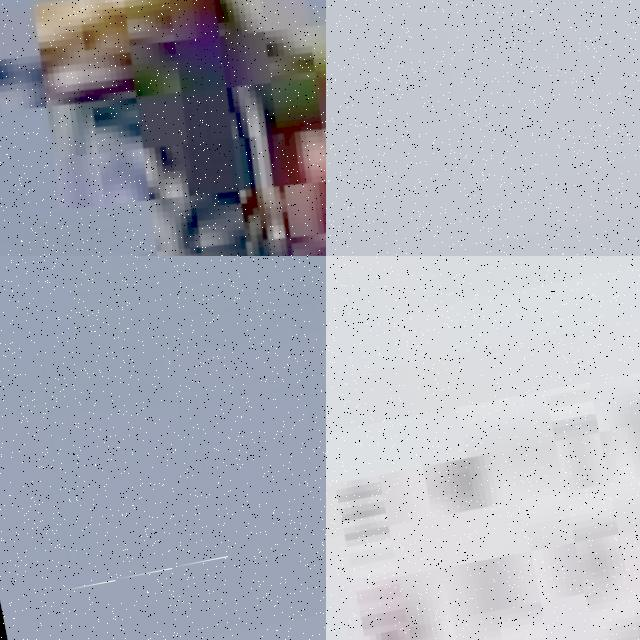drone: (0, 256, 326, 591), (0, 0, 326, 256)
